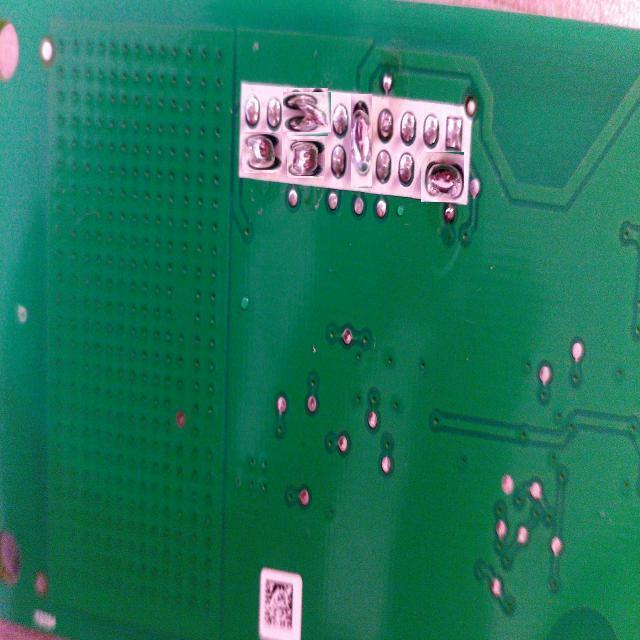Short_circuit: (420, 151, 464, 202), (285, 90, 330, 134), (351, 94, 372, 188), (243, 133, 281, 172), (287, 140, 324, 177)
